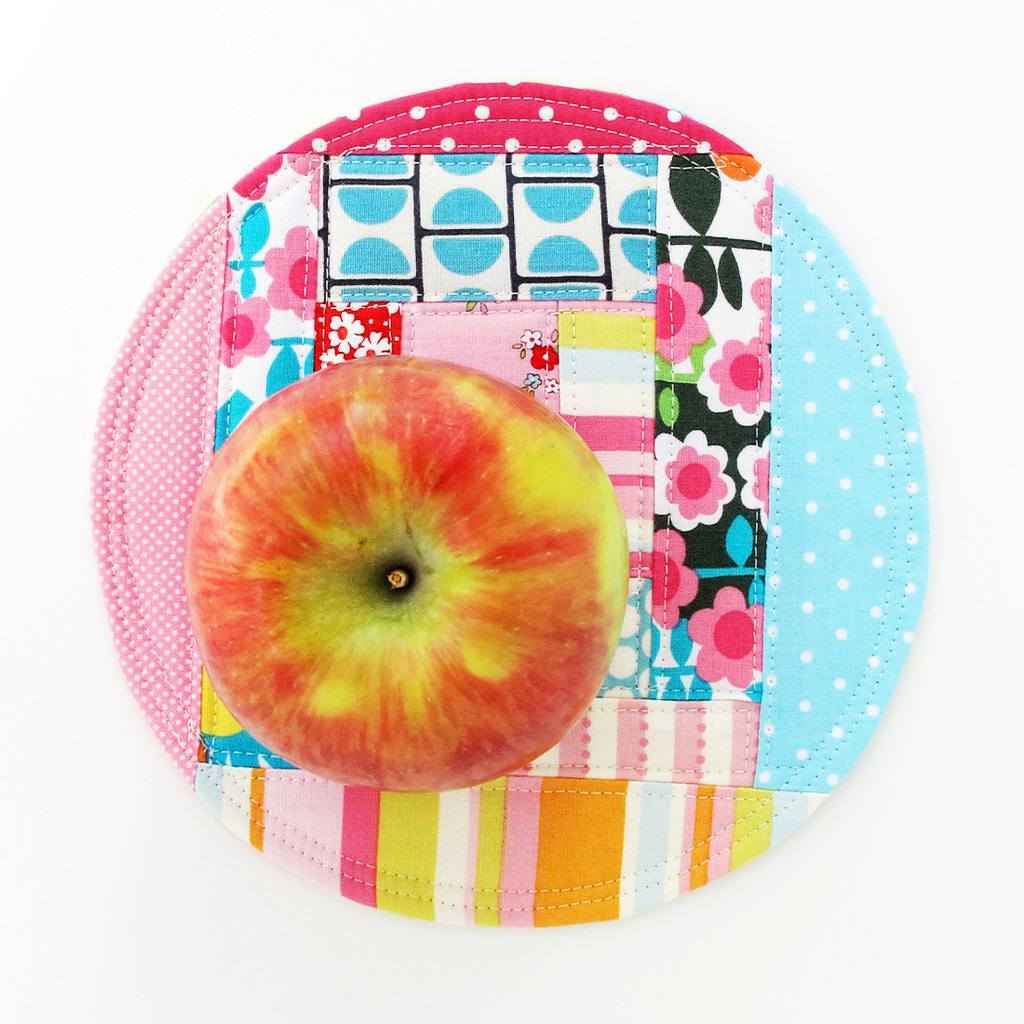Apple: (201, 348, 617, 808)
